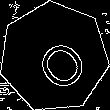O_NW: (21, 24, 87, 90)
